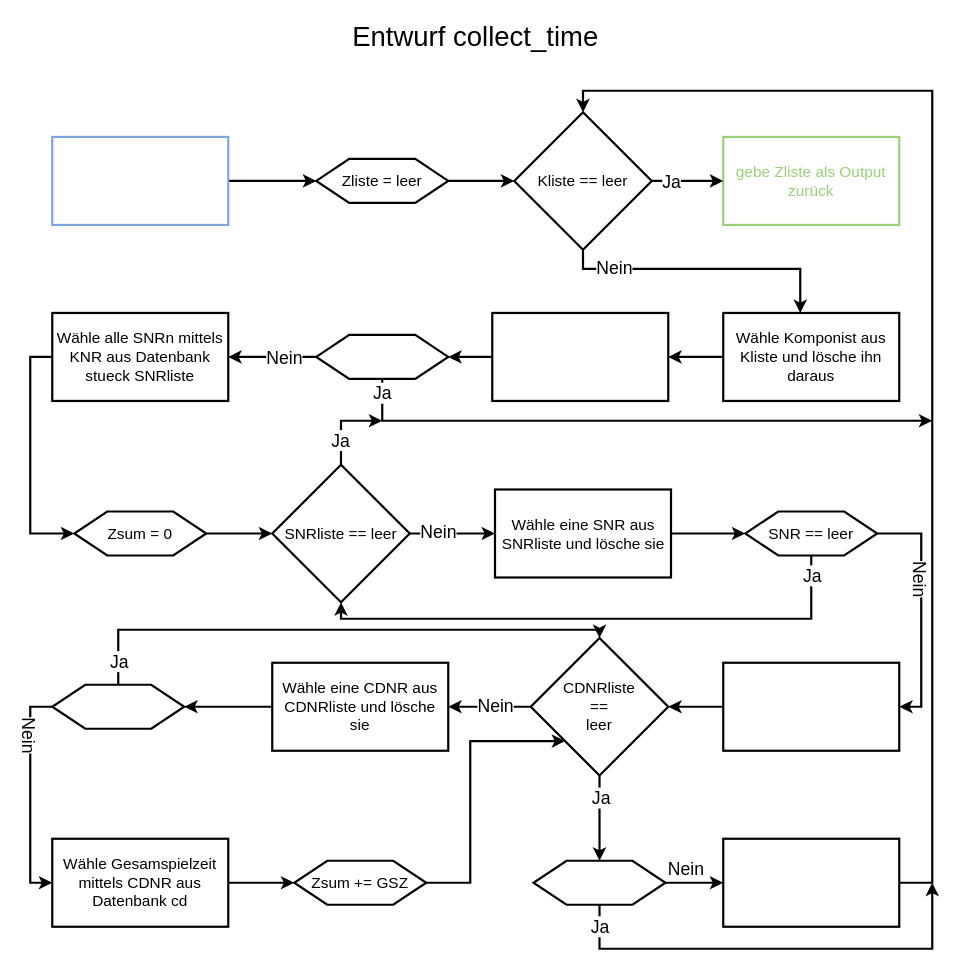
The diagram is 960 pixels wide and 977 high, and some of its shapes have lost their labels. The centre of each missing label's shape, as x and y in pixels:
"CDNR == leer" belongs at point 118,706.
"füge (Vorname, Nachname, Zsum ) in Zliste ein" belongs at point 811,882.
"input: liste von Komponist (Kliste)" belongs at point 140,180.
"KNR == leer" belongs at point 382,356.
"Wähle alle CDNRn mittels SNR aus Datenbank aufnahme CDNRliste" belongs at point 811,706.
"Wähle KNR mittels Komponist aus Datenbank komponist" belongs at point 580,356.
"Zsum == 0" belongs at point 599,882.
